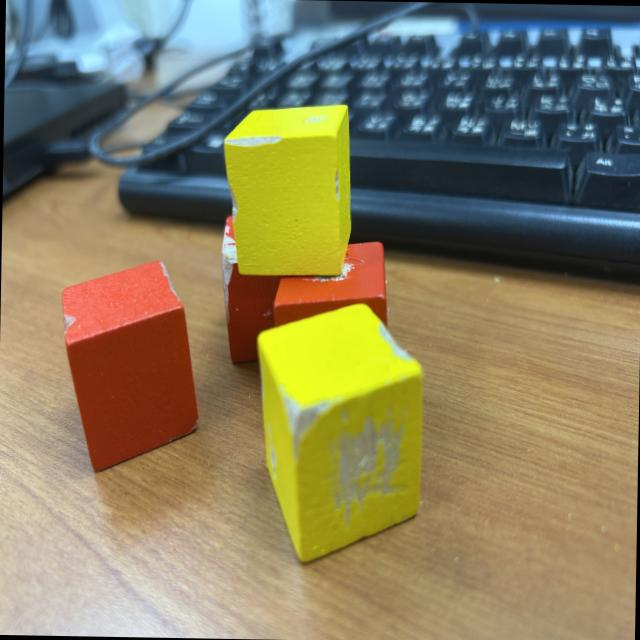broken: (252, 300, 424, 566), (58, 260, 202, 473), (221, 101, 353, 276), (272, 238, 389, 408), (218, 212, 324, 364)
